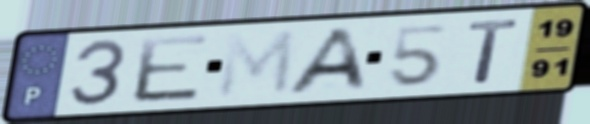3: (67, 36, 129, 109)
5: (384, 22, 451, 88)
A: (280, 25, 372, 97)
E: (130, 32, 213, 106)
M: (214, 27, 299, 101)
T: (465, 17, 523, 86)
